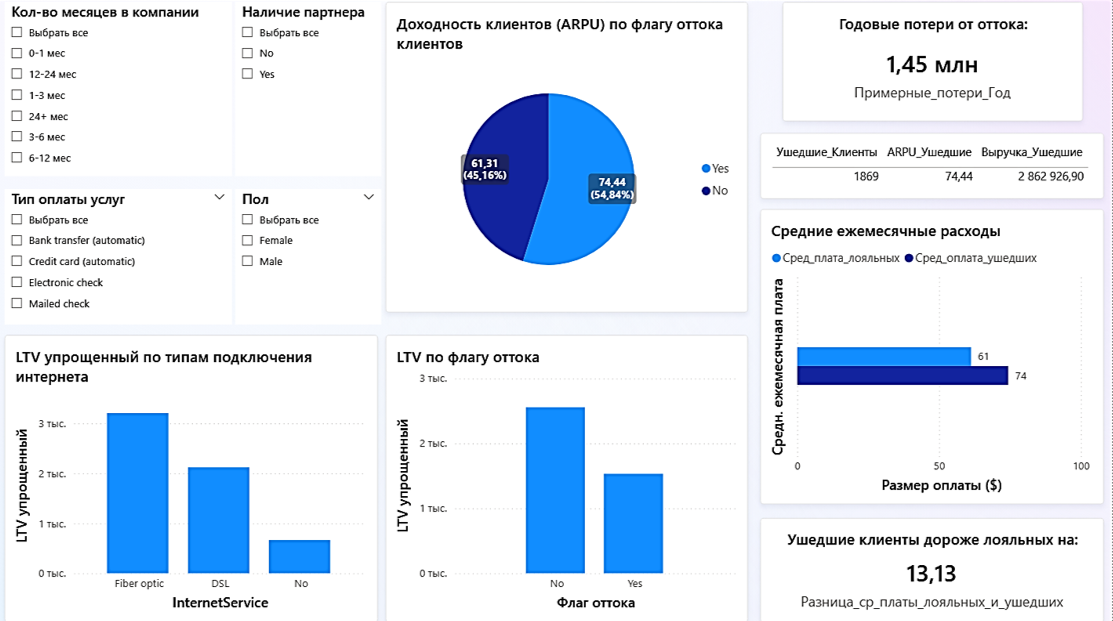

What the dashboard file says about the page in this screenshot:
{"tool":"powerbi","page":{"name":"Экономика оттока","canvas":[1280,720],"ordinal":2},"visuals":[{"type":"pieChart","title":"Доходность клиентов (ARPU) по флагу оттока клиентов","fields":{"Category":["Telcom.Churn"],"Y":["Telcom.ARPU"]},"box":[446.8,4,415.8,356.4],"z":0},{"type":"clusteredColumnChart","title":"LTV упрощенный по типам подключения интернета","fields":{"Y":["Telcom.LTV_упрощенный"],"Category":["Telcom.InternetService"]},"box":[9.4,386.1,427.9,329.4],"z":1},{"type":"tableEx","fields":{"Values":["Telcom.Ушедшие_Клиенты","Telcom.ARPU_Ушедшие","Telcom.Выручка_Ушедшие"]},"box":[876.1,166,394.2,75.6],"z":2},{"type":"card","title":"Ушедшие клиенты дороже лояльных на:","fields":{"Values":["Telcom.Avg_MonthlyCharges_Diff"]},"box":[876.1,595.3,394.2,120.1],"z":3},{"type":"clusteredBarChart","title":"Средние ежемесячные расходы","fields":{"Y":["Telcom.Сред_плата_лояльных","Telcom.Сред_оплата_ушедших"]},"box":[876.1,247,394.2,333.4],"z":4},{"type":"card","title":"Годовые потери от оттока:","fields":{"Values":["Telcom.Примерные_потери_Год"]},"box":[901.7,21.6,344.2,129.6],"z":5},{"type":"clusteredColumnChart","title":"LTV по флагу оттока","fields":{"Y":["Telcom.LTV_упрощенный"],"Category":["Telcom.Churn"]},"box":[446.8,386.1,415.8,329.4],"z":6},{"type":"slicer","fields":{"Values":["Telcom.PaymentMethod"]},"box":[9.4,218.7,260.5,155.2],"z":7},{"type":"slicer","fields":{"Values":["Telcom.TenureGroup"]},"box":[9.4,4,260.5,199.8],"z":8},{"type":"slicer","fields":{"Values":["Telcom.Partner"]},"box":[274,4,167.4,199.8],"z":9},{"type":"slicer","fields":{"Values":["Telcom.gender"]},"box":[274,218.7,167.4,155.2],"z":10}]}

Visuals, with their boxes in screenshot pixels (x1, y1, x2, y2), scaled from the page's 1280x720 canvas onto the 1113x621 screenshot:
"Доходность клиентов (ARPU) по флагу оттока клиентов" pieChart: {"x1": 389, "y1": 3, "x2": 750, "y2": 311}
"LTV упрощенный по типам подключения интернета" clusteredColumnChart: {"x1": 8, "y1": 333, "x2": 380, "y2": 617}
tableEx - Telcom.Ушедшие_Клиенты x Telcom.ARPU_Ушедшие: {"x1": 762, "y1": 143, "x2": 1105, "y2": 208}
"Ушедшие клиенты дороже лояльных на:" card: {"x1": 762, "y1": 513, "x2": 1105, "y2": 617}
"Средние ежемесячные расходы" clusteredBarChart: {"x1": 762, "y1": 213, "x2": 1105, "y2": 501}
"Годовые потери от оттока:" card: {"x1": 784, "y1": 19, "x2": 1083, "y2": 130}
"LTV по флагу оттока" clusteredColumnChart: {"x1": 389, "y1": 333, "x2": 750, "y2": 617}
slicer - Telcom.PaymentMethod: {"x1": 8, "y1": 189, "x2": 235, "y2": 322}
slicer - Telcom.TenureGroup: {"x1": 8, "y1": 3, "x2": 235, "y2": 176}
slicer - Telcom.Partner: {"x1": 238, "y1": 3, "x2": 384, "y2": 176}
slicer - Telcom.gender: {"x1": 238, "y1": 189, "x2": 384, "y2": 322}
